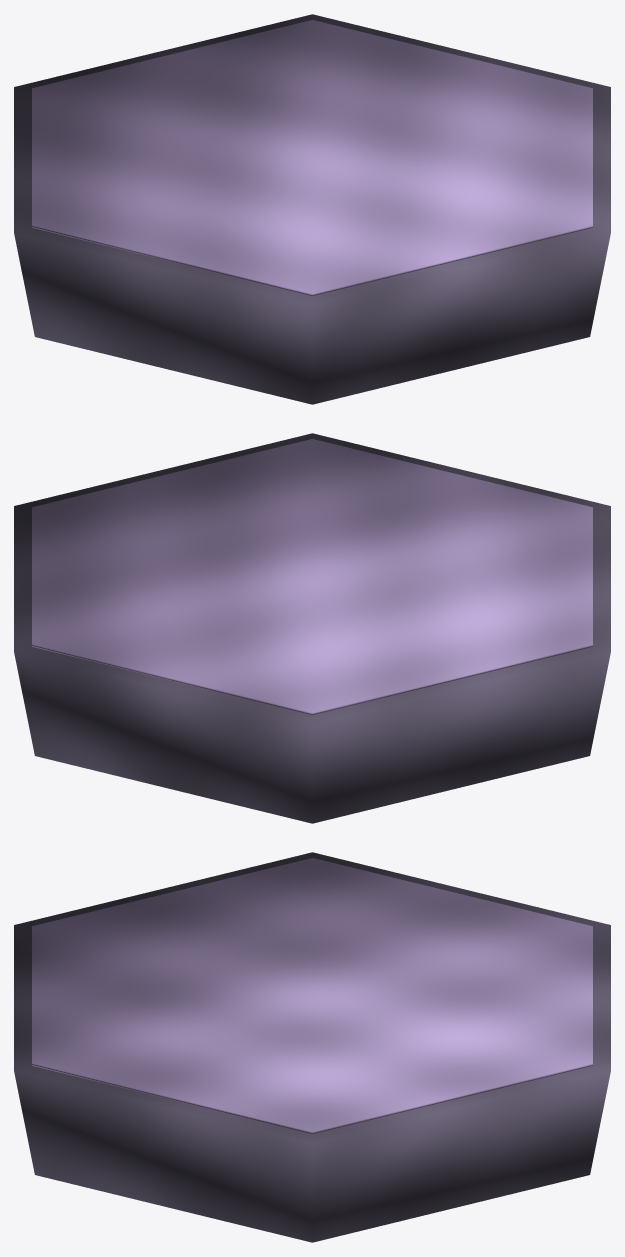
The model's file is hex_stone.glb.
3 renders of one model, top to bottom at view 1: azimuth 30°, elevation 25°; view 2: azimuth 150°, elevation 25°; view 3: azimuth 270°, elevation 25°, orthographic.
Visible parts, largest first — view 1: stone_top, stone_base; view 2: stone_top, stone_base; view 3: stone_top, stone_base.
Part boxes in pixels (x1=…): stone_top: x1=32, y1=20, x2=592, y2=295; stone_base: x1=14, y1=14, x2=610, y2=404; stone_top: x1=32, y1=439, x2=592, y2=714; stone_base: x1=14, y1=433, x2=610, y2=823; stone_top: x1=32, y1=858, x2=592, y2=1133; stone_base: x1=14, y1=852, x2=610, y2=1242.
Bounding box in the file's own units: 2 × 0.36 × 1.73.
2 materials, 2 textured.
